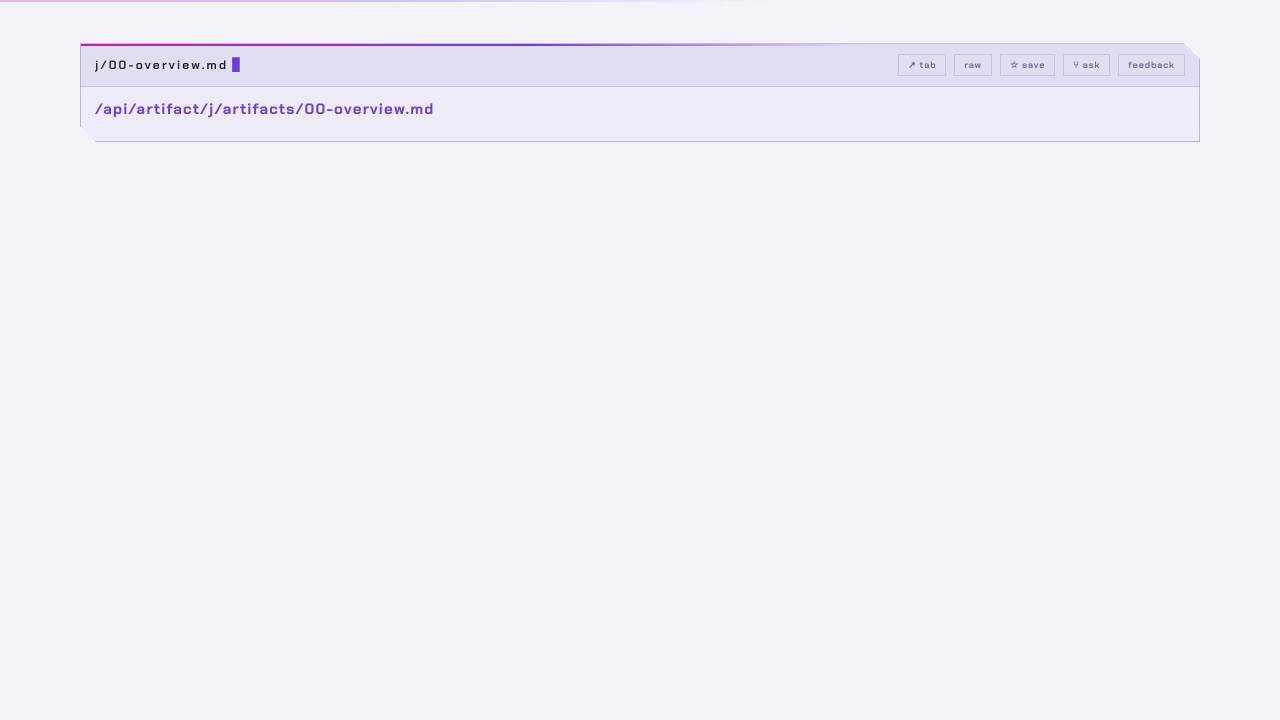
Test: the ask composer › refuses an empty question without posting
Click the button "⑂ ask": point(1087, 65) left=1063, top=54, right=1110, bottom=76
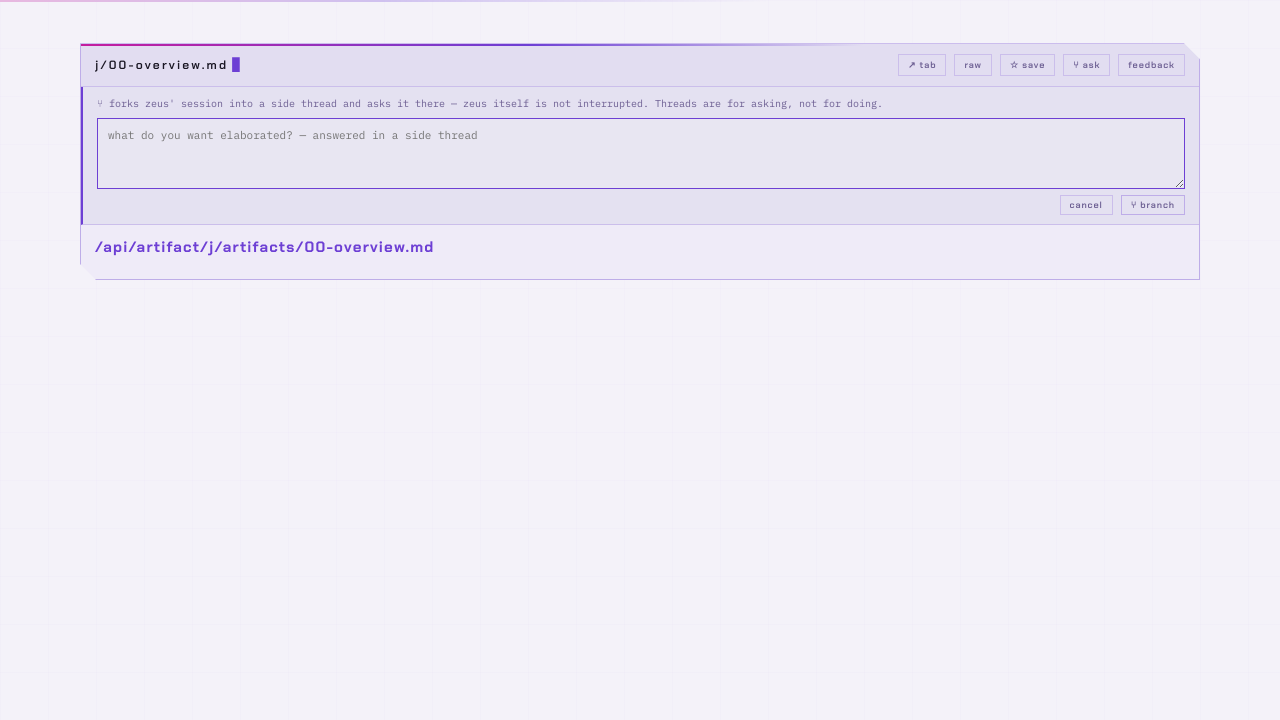
Click the button "⑂ branch": point(1153, 205) left=1121, top=195, right=1185, bottom=215
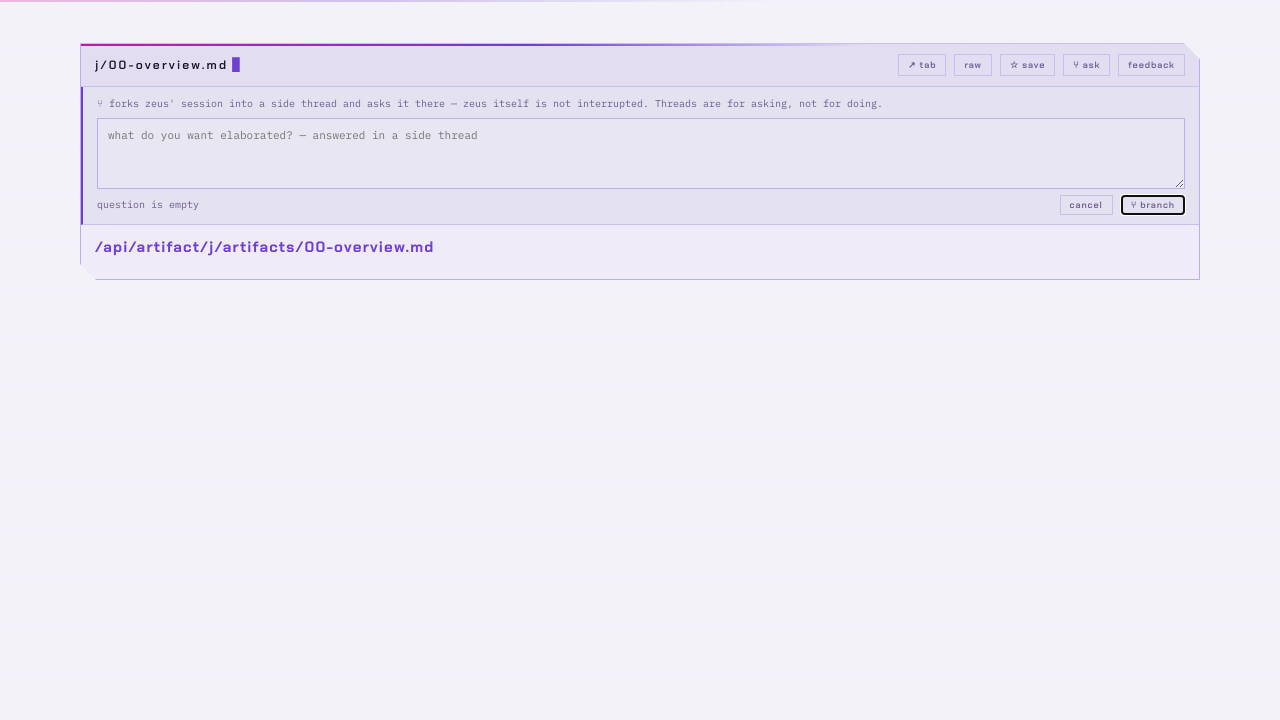
Result: the text with id "ask-note" reads "question is empty" at left=97, top=198, right=199, bottom=212
